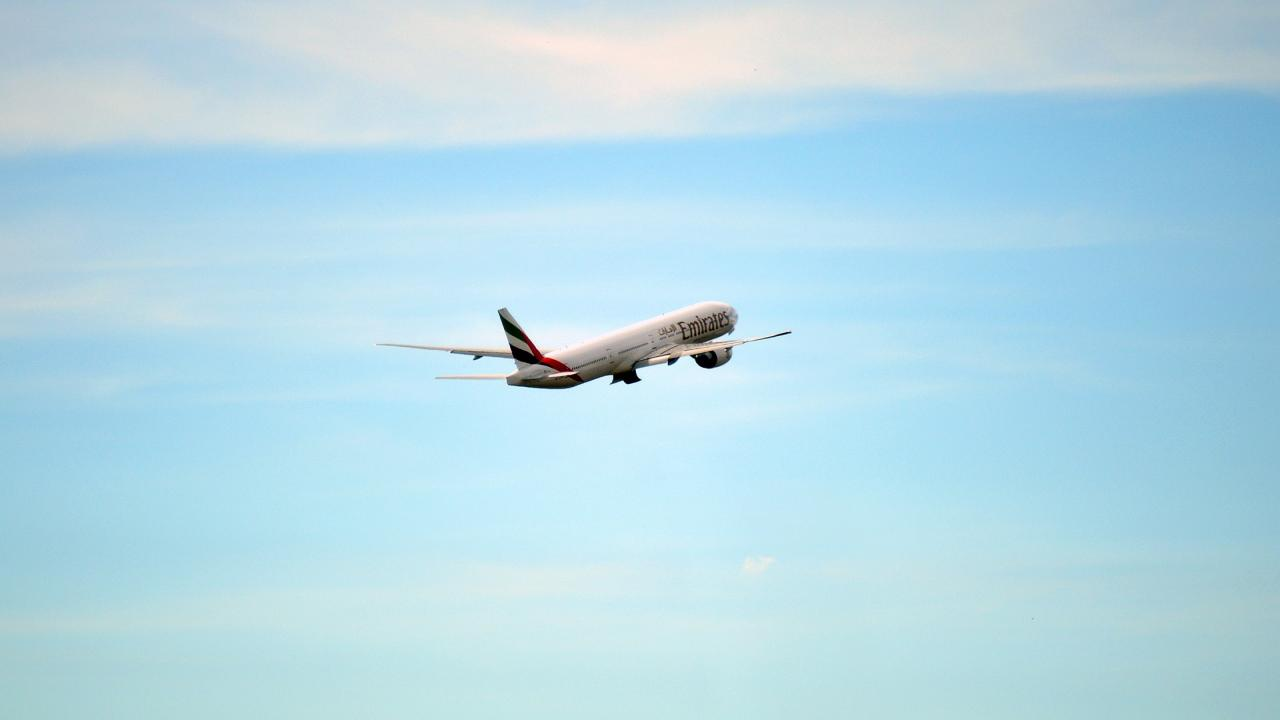Airplane: (354, 286, 818, 398)
